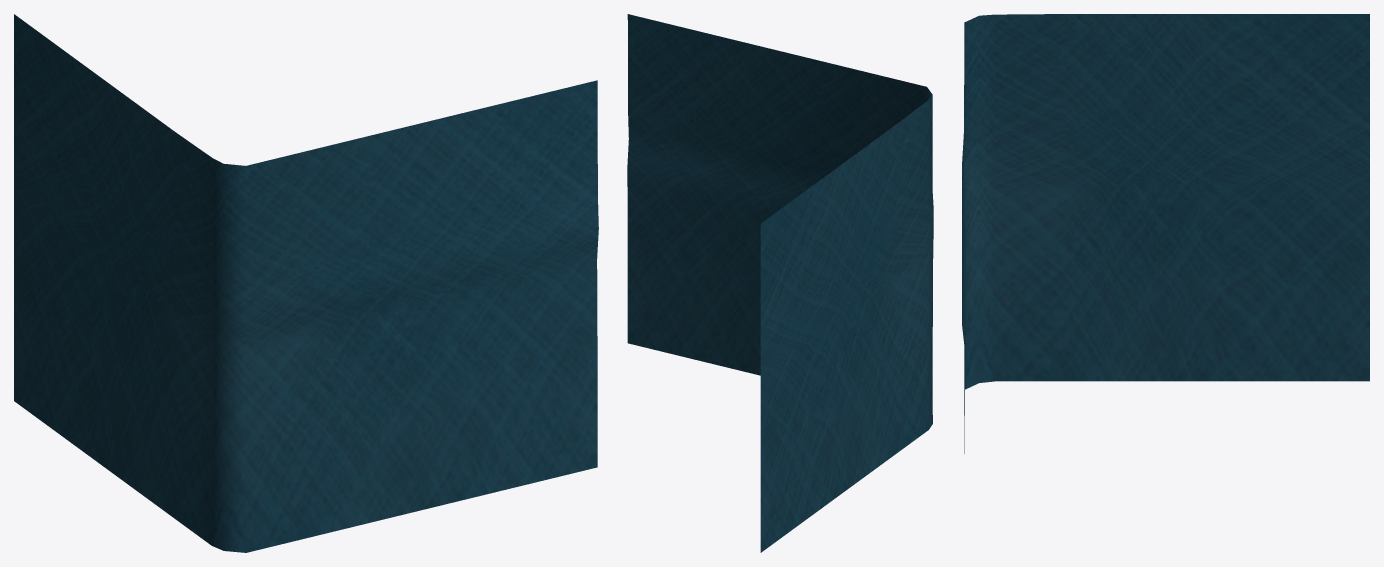
File: tl_fallR.FBX
3 views of the same model, side by side, from view 1: azimuth 30°, elevation 25°; view 2: azimuth 150°, elevation 25°; view 3: azimuth 270°, elevation 25° (orthographic). The views are drawn at different scales.
Parts seen in each view (by area): view 1: tl_fallright_FINAL; view 2: tl_fallright_FINAL; view 3: tl_fallright_FINAL.
Boxes of the visible parts, x1=… form: tl_fallright_FINAL: x1=14, y1=14, x2=598, y2=552; tl_fallright_FINAL: x1=627, y1=14, x2=933, y2=552; tl_fallright_FINAL: x1=962, y1=14, x2=1369, y2=453.
Bounding box in the file's own units: 100 × 100 × 101.
